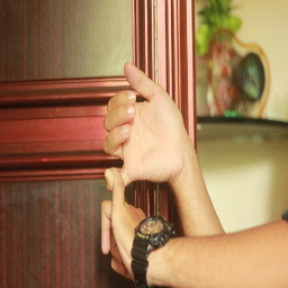S: (91, 60, 188, 283)
